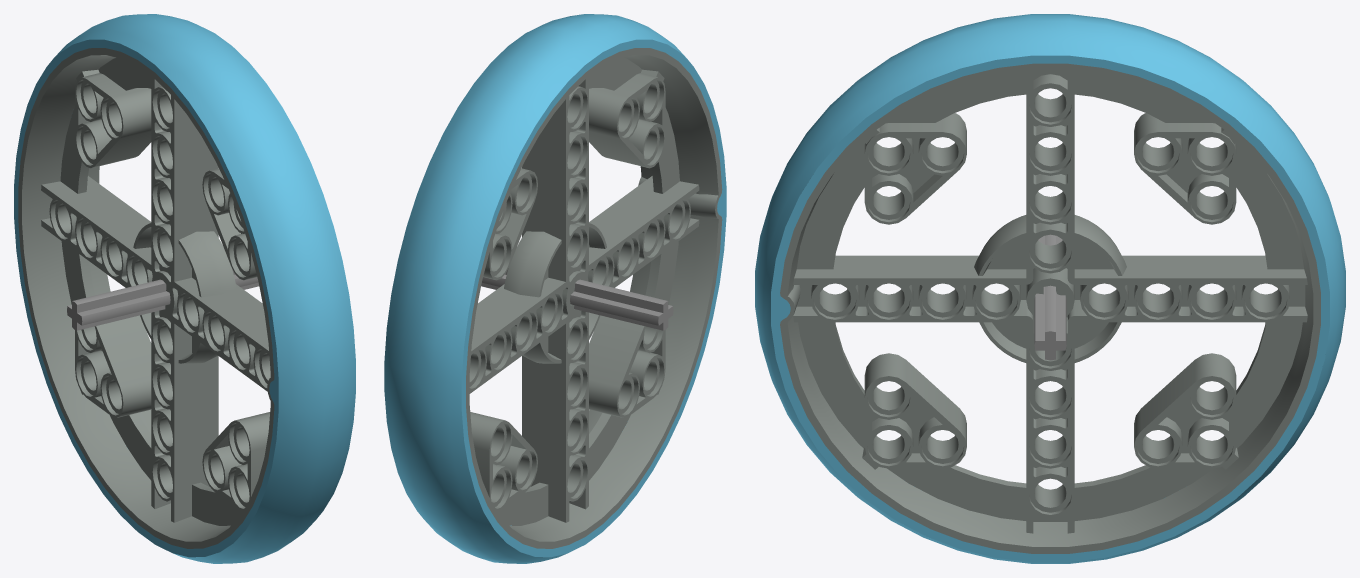
The model's file is Front_wheel.obj.
The picture shows the model from 3 angles, left to right: view 1: azimuth 30°, elevation 25°; view 2: azimuth 150°, elevation 25°; view 3: azimuth 270°, elevation 25°; orthographic projection. The views are drawn at different scales.
Parts seen in each view (by area): view 1: Piece001, Piece000; view 2: Piece001, Piece000; view 3: Piece001, Piece000.
Part boxes in pixels (x1,y1,x2,y2): Piece001: (14, 14, 355, 563); Piece000: (67, 268, 259, 330); Piece001: (384, 14, 726, 563); Piece000: (481, 268, 673, 330); Piece001: (755, 14, 1345, 563); Piece000: (1034, 234, 1066, 360).
Bounding box in the file's own units: 100 × 220 × 220.
